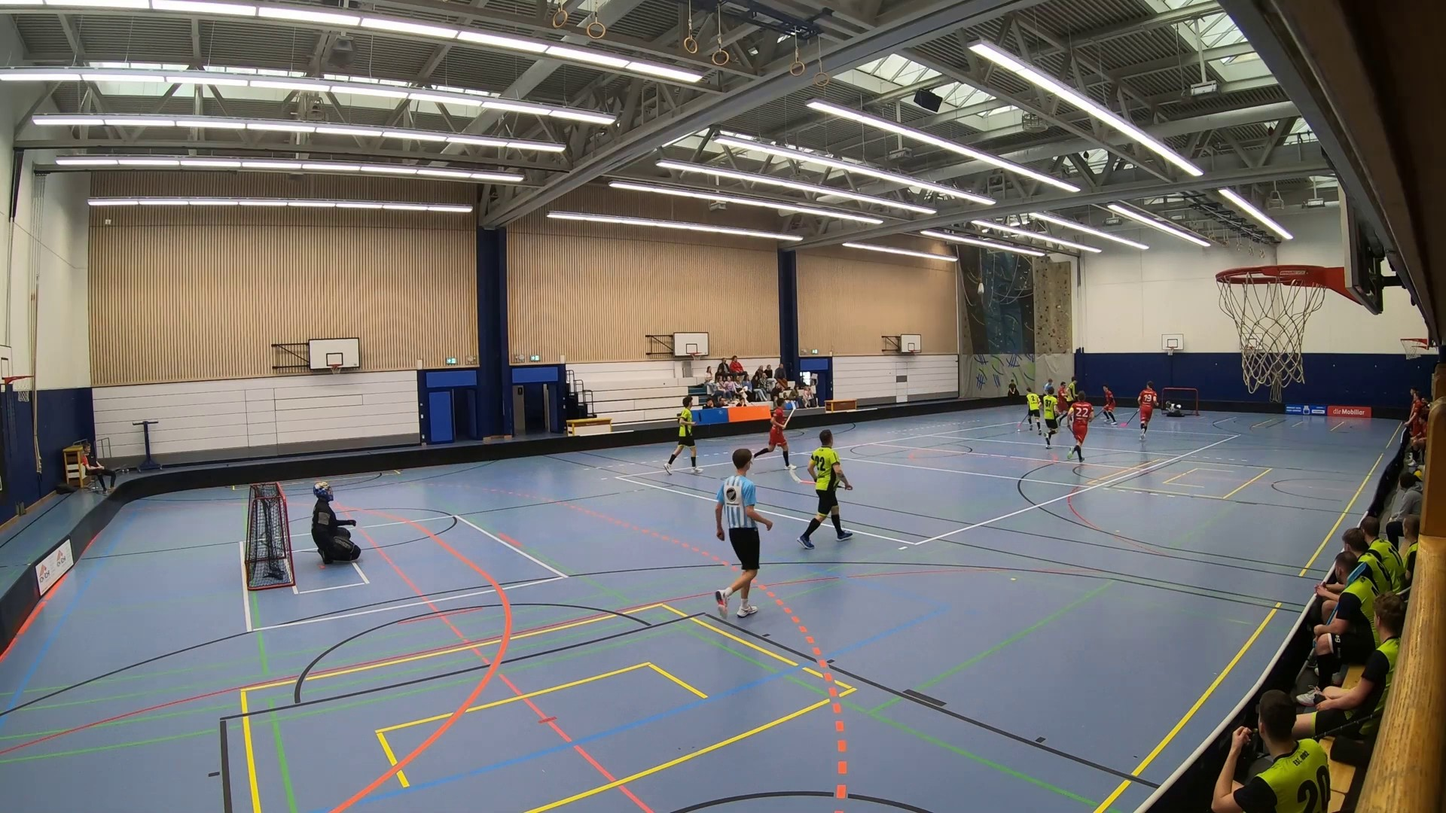Schiri: (706, 448, 789, 646), (1044, 376, 1054, 394)
ball: (1016, 427, 1022, 433)
goalkeeper: (303, 467, 366, 580), (1159, 394, 1188, 421)
player: (795, 422, 858, 552), (743, 380, 802, 477), (663, 390, 706, 475), (1062, 389, 1096, 463), (1131, 376, 1161, 444), (1016, 384, 1044, 436), (1096, 379, 1117, 431), (1042, 385, 1058, 450), (1062, 375, 1081, 421), (1056, 378, 1070, 431)
